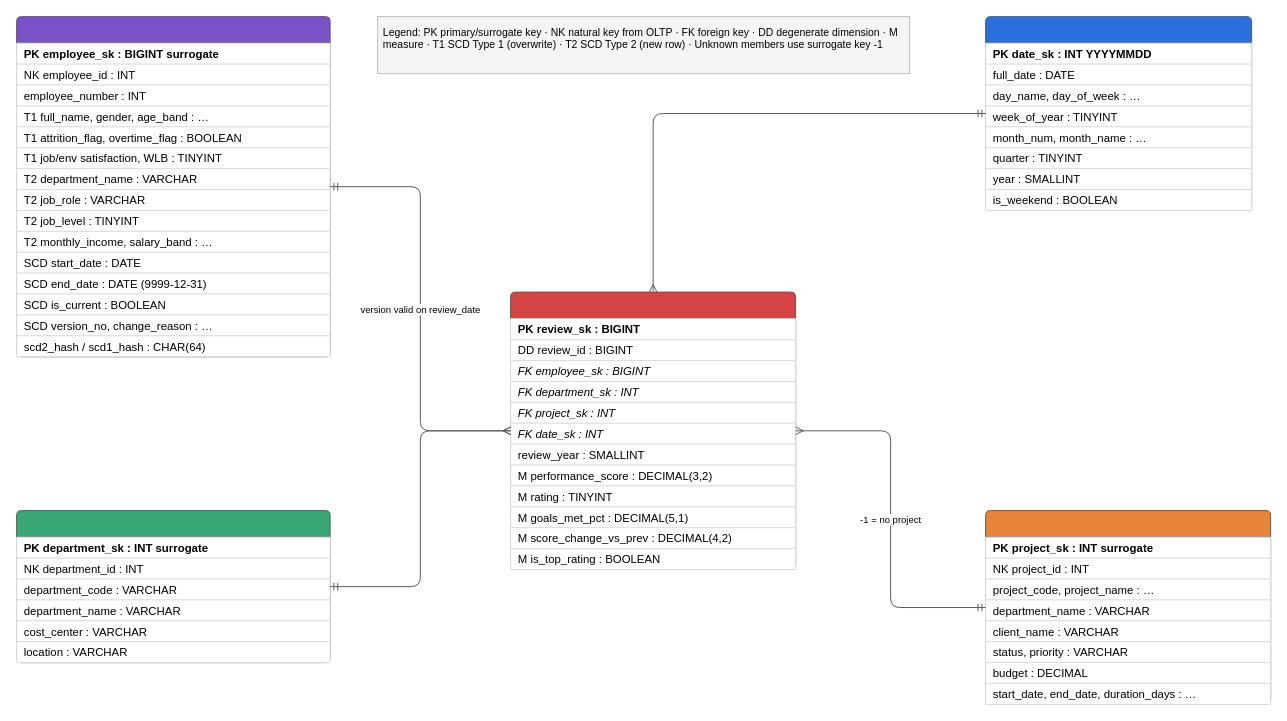
The diagram is 1287 pixels wide and 721 high, and some of its shapes have lost their labels. The box of each missing label's shape, as (x1, y1, x2, y2) in pixels:
dim_date: (985, 16, 1252, 210)
dim_department: (16, 510, 330, 663)
dim_employee (SCD Type 2): (16, 16, 330, 357)
dim_project: (985, 510, 1271, 704)
fact_performance_reviews: (510, 291, 796, 570)
